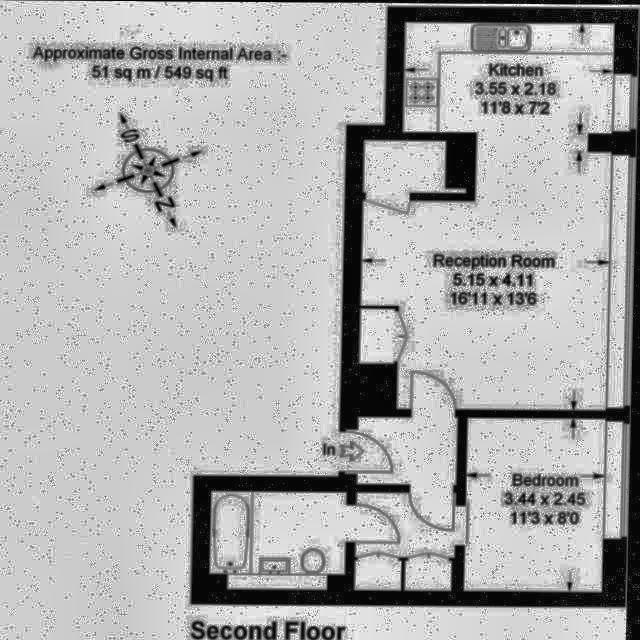room: (361, 130, 612, 412), (466, 415, 608, 594), (403, 22, 615, 133), (213, 491, 349, 590), (357, 491, 459, 591), (359, 416, 460, 485)
